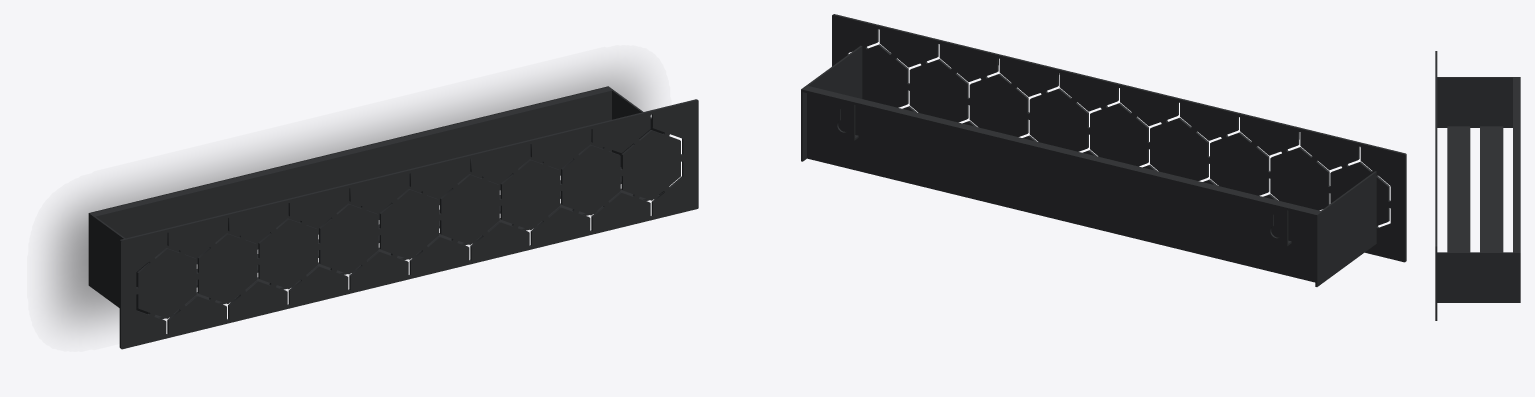
Rendered from bee-mono.f949fb5bda.ar.glb.
3 renders of one model, left to right at view 1: azimuth 30°, elevation 25°; view 2: azimuth 150°, elevation 25°; view 3: azimuth 270°, elevation 25°, orthographic. The views are drawn at different scales.
Visible parts, largest first — view 1: NAUO1, object 2; view 2: NAUO1; view 3: NAUO1.
Part boxes in pixels (x1,y1,x2,y2): NAUO1: (88,86,698,349); object 2: (49,70,648,326); NAUO1: (801,14,1406,286); NAUO1: (1435,51,1520,320).
Bounding box in the file's own units: 0.58 × 0.17 × 0.092.
2 materials, 1 textured.
